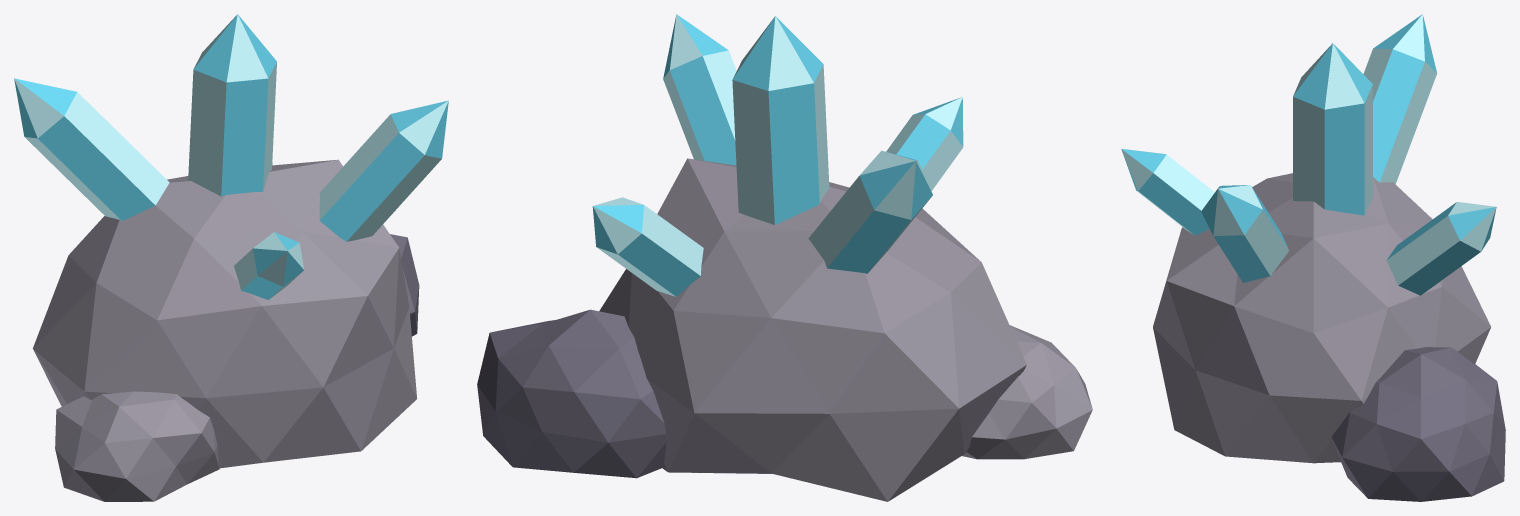
The model's file is mining_node.glb.
3 views of the same model, side by side, from view 1: azimuth 30°, elevation 25°; view 2: azimuth 150°, elevation 25°; view 3: azimuth 270°, elevation 25° (orthographic). The views are drawn at different scales.
Visible parts, largest first — view 1: mining_node; view 2: mining_node; view 3: mining_node.
Part boxes in pixels (x1,y1,x2,y2): mining_node: (14, 14, 448, 501); mining_node: (477, 14, 1092, 501); mining_node: (1121, 14, 1505, 501).
Size of the model in its own units: 1.28 by 1.06 by 1.
